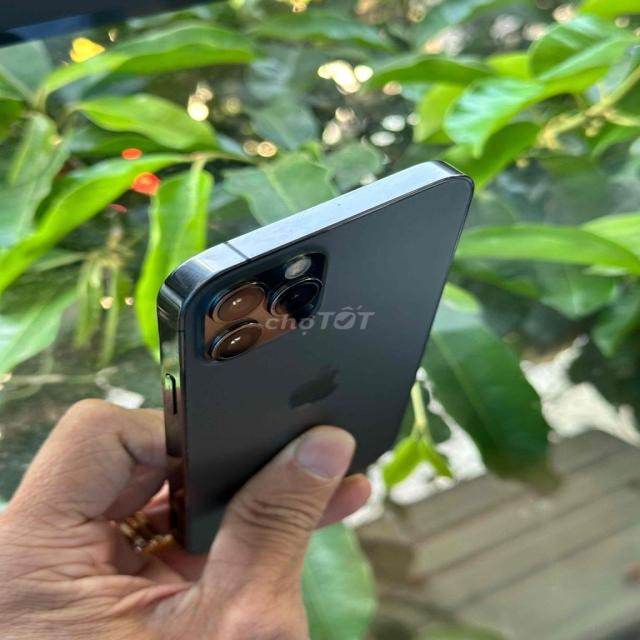gen_12_13: (143, 158, 476, 567)
